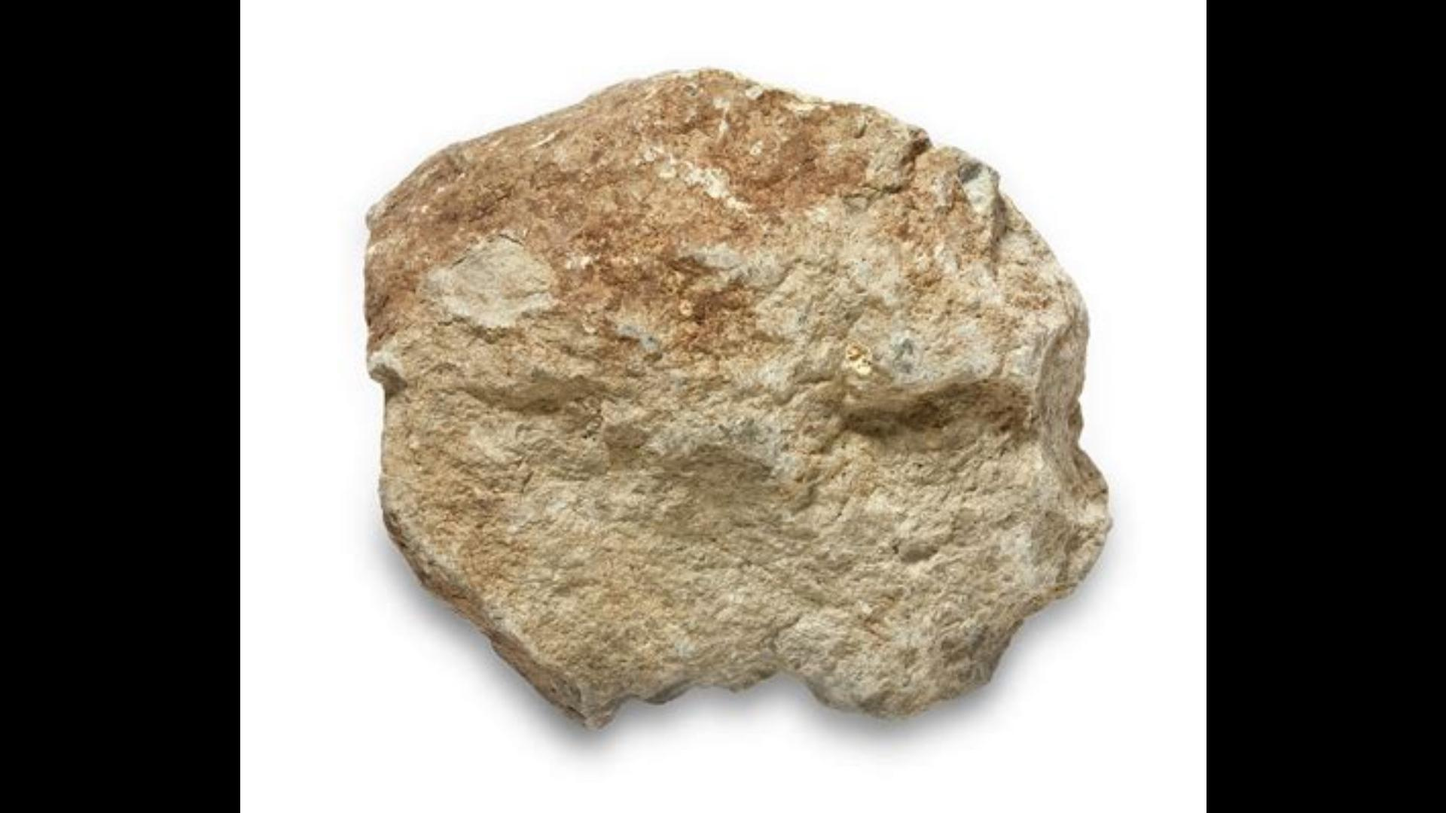rock: (372, 71, 1108, 725)
